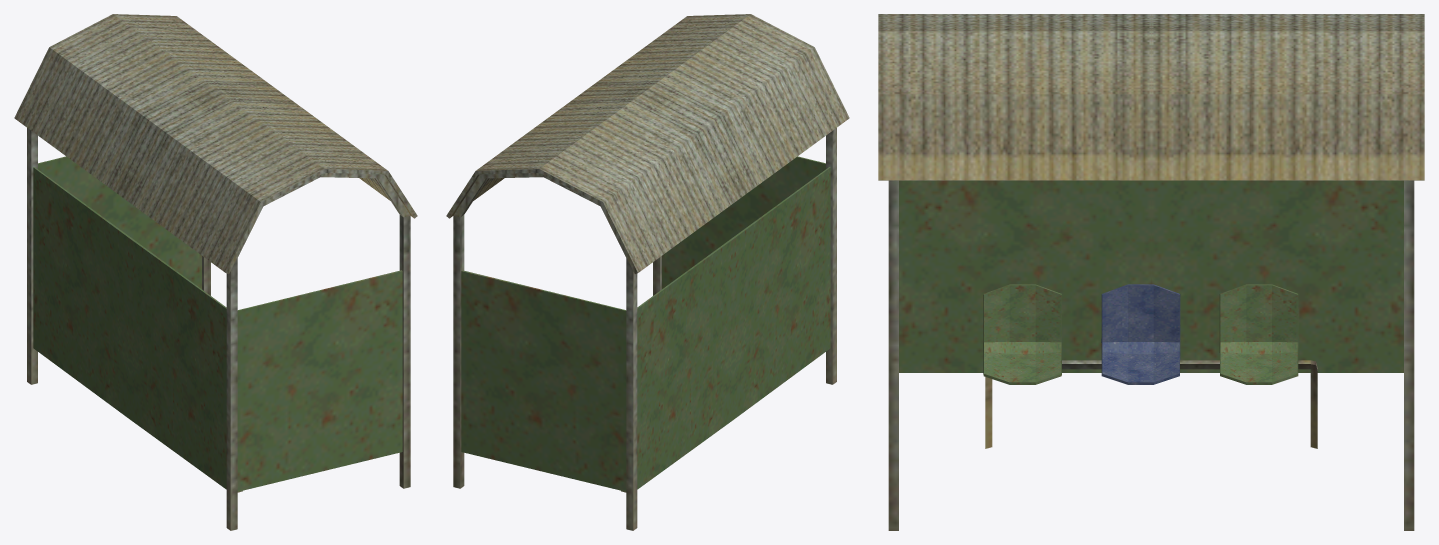
File: Urban_BusstopCleanSeatsRoundRoof_Model.fbx
3 renders of one model, left to right at view 1: azimuth 30°, elevation 25°; view 2: azimuth 150°, elevation 25°; view 3: azimuth 270°, elevation 25°, orthographic. The views are drawn at different scales.
Parts seen in each view (by area): view 1: Urban_BusstopCleanSeatsRoundRoof_Mesh; view 2: Urban_BusstopCleanSeatsRoundRoof_Mesh; view 3: Urban_BusstopCleanSeatsRoundRoof_Mesh.
Boxes of the visible parts, left/top/right/bottom form: Urban_BusstopCleanSeatsRoundRoof_Mesh: left=14, top=14, right=417, bottom=530; Urban_BusstopCleanSeatsRoundRoof_Mesh: left=446, top=14, right=849, bottom=530; Urban_BusstopCleanSeatsRoundRoof_Mesh: left=878, top=14, right=1424, bottom=530.
Size of the model in its own units: 2.22 by 3.79 by 4.24.
